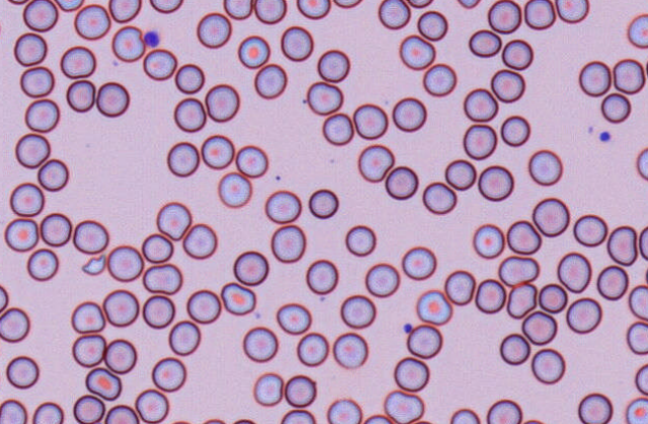PLT: (144, 30, 160, 47), (599, 130, 610, 143)
RBC: (532, 197, 569, 237), (357, 143, 394, 182), (557, 251, 591, 293), (106, 244, 143, 282), (102, 289, 139, 327), (383, 389, 424, 423), (156, 201, 191, 240), (270, 224, 305, 263), (332, 331, 368, 368), (477, 164, 513, 201), (74, 3, 110, 40), (205, 83, 239, 122), (393, 356, 429, 392), (416, 289, 452, 325), (242, 326, 278, 362), (566, 297, 602, 333), (352, 103, 388, 139), (14, 132, 50, 168), (217, 171, 252, 208), (498, 255, 539, 286), (406, 323, 442, 358), (151, 356, 186, 392), (521, 310, 557, 345), (399, 34, 435, 69), (182, 223, 217, 259), (462, 123, 497, 159), (196, 12, 231, 48), (72, 219, 108, 254), (306, 81, 343, 115), (264, 189, 301, 223), (142, 263, 182, 294), (606, 225, 637, 265), (134, 388, 169, 423), (506, 219, 541, 254), (364, 262, 399, 297), (233, 250, 268, 285), (531, 348, 565, 384), (340, 294, 376, 328), (95, 81, 129, 117), (392, 96, 426, 132), (528, 149, 562, 185), (9, 182, 44, 216), (401, 246, 436, 280), (463, 87, 498, 121), (490, 68, 525, 102), (200, 134, 234, 169), (186, 289, 221, 323), (24, 98, 59, 132), (85, 367, 121, 400), (168, 320, 201, 356), (305, 258, 338, 294), (104, 338, 137, 374), (220, 282, 256, 315), (254, 63, 287, 99), (60, 45, 96, 78), (612, 58, 645, 94), (280, 25, 313, 61), (166, 141, 199, 177), (578, 60, 611, 96), (4, 217, 38, 251), (5, 355, 39, 389), (13, 32, 47, 66), (70, 300, 105, 333), (173, 97, 206, 132), (22, 0, 58, 32), (596, 264, 628, 300), (506, 282, 537, 319), (72, 333, 105, 367), (385, 165, 418, 199), (422, 181, 456, 214), (422, 63, 456, 96), (487, 0, 521, 33), (316, 49, 350, 82), (142, 294, 175, 328), (573, 214, 607, 247), (276, 302, 311, 334), (472, 223, 504, 258), (142, 48, 177, 80), (577, 392, 613, 423), (444, 269, 475, 305), (235, 144, 268, 177), (237, 35, 270, 68), (296, 332, 328, 366), (39, 212, 71, 246), (19, 66, 54, 97), (475, 278, 506, 313), (0, 306, 30, 342), (284, 374, 316, 407), (322, 112, 354, 145), (26, 248, 58, 281), (37, 158, 69, 191), (252, 372, 283, 406), (444, 158, 476, 190), (501, 38, 533, 70), (499, 333, 530, 365), (141, 232, 173, 263), (345, 224, 376, 256), (600, 92, 631, 123), (66, 79, 95, 112), (326, 397, 362, 423), (308, 188, 338, 219), (174, 63, 204, 94), (500, 115, 530, 146), (73, 394, 105, 423), (523, 0, 555, 29), (378, 0, 410, 29), (468, 29, 501, 57), (417, 10, 447, 40), (538, 283, 567, 313), (486, 399, 522, 423), (253, 0, 286, 24), (555, 0, 589, 23), (108, 0, 141, 22), (32, 401, 64, 423), (627, 13, 647, 48), (626, 321, 647, 354), (628, 284, 647, 320), (0, 398, 27, 423), (104, 404, 139, 423), (296, 0, 330, 19), (625, 397, 647, 423), (223, 0, 252, 19), (280, 409, 315, 423), (449, 408, 480, 423), (149, 0, 183, 13), (634, 363, 647, 395), (636, 147, 647, 180), (55, 0, 84, 11), (638, 225, 647, 260), (363, 414, 392, 423), (333, 0, 362, 8), (456, 0, 481, 9), (0, 284, 8, 312), (407, 0, 433, 8), (410, 419, 433, 424), (232, 418, 255, 423), (202, 418, 225, 423), (6, 0, 29, 5), (169, 419, 191, 424), (522, 418, 544, 423), (644, 266, 648, 285), (645, 57, 648, 77)
Schistocyte: (111, 26, 145, 63), (82, 255, 106, 276)
